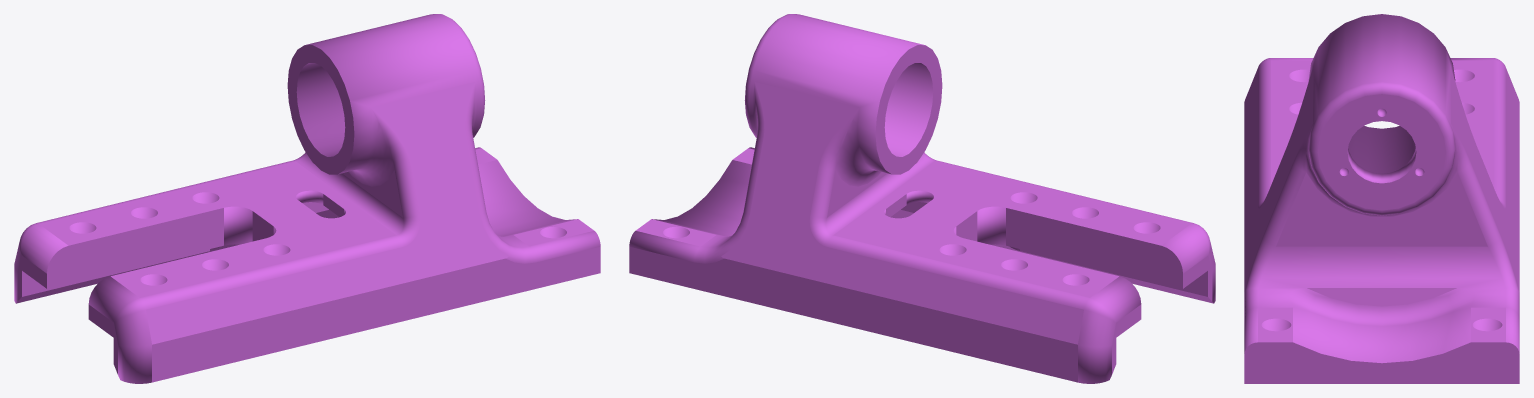
Rendered from motor_mount.dae.
The picture shows the model from 3 angles, left to right: view 1: azimuth 30°, elevation 25°; view 2: azimuth 150°, elevation 25°; view 3: azimuth 270°, elevation 25°; orthographic projection. The views are drawn at different scales.
Parts seen in each view (by area): view 1: motor_mouth v2; view 2: motor_mouth v2; view 3: motor_mouth v2.
Boxes of the visible parts, <box> form: motor_mouth v2: <box>14,14,600,383</box>; motor_mouth v2: <box>629,14,1215,383</box>; motor_mouth v2: <box>1244,14,1519,383</box>.
Bounding box in the file's own units: 0.13 × 0.06 × 0.061.
